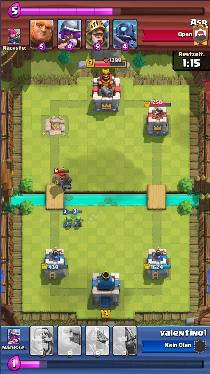ally_spear_goblin: (63, 215, 73, 229), (74, 215, 84, 229)
enemy_hunter: (53, 171, 74, 194)
